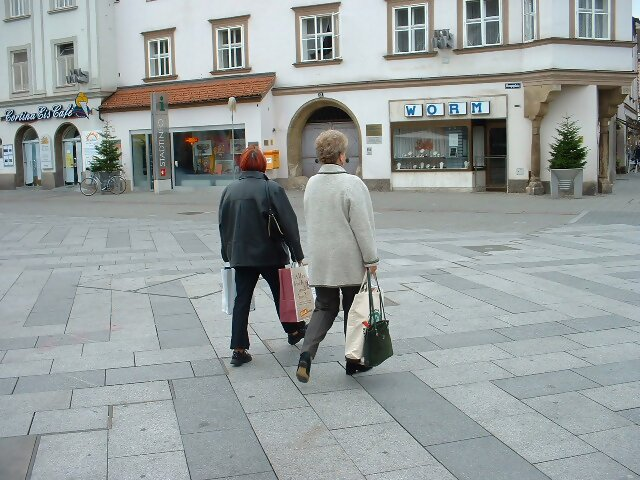person: (291, 123, 388, 384), (214, 140, 306, 370)
